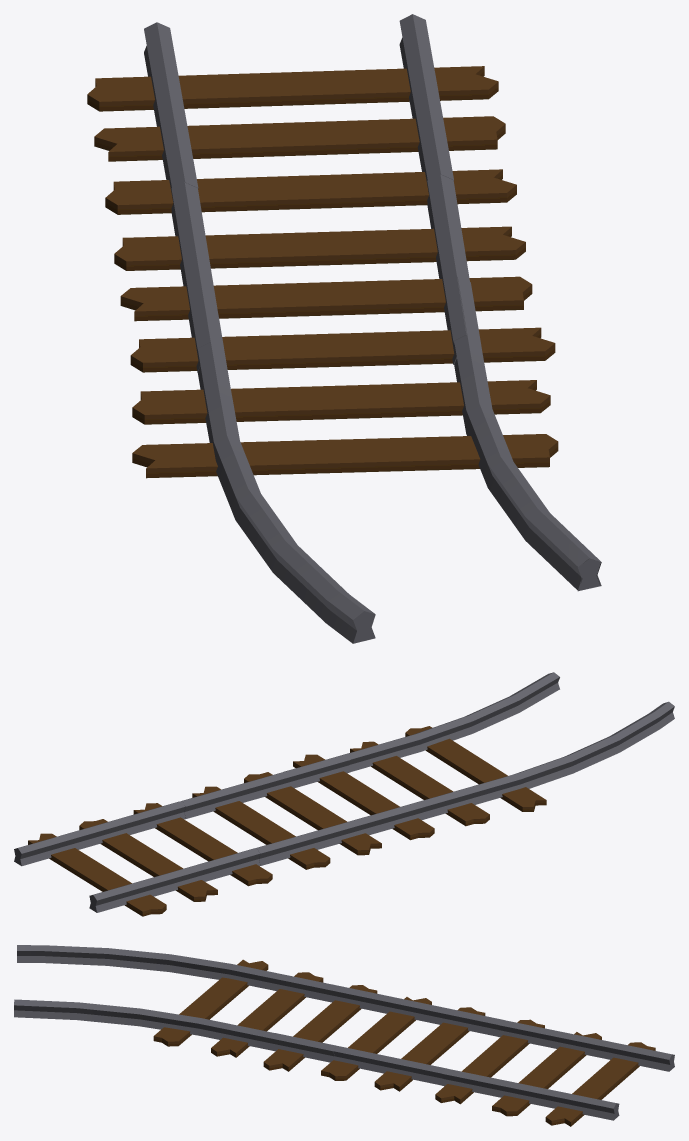
The model's file is SM_TrackMerge.fbx.
3 views of the same model, one above another, from view 1: azimuth 30°, elevation 25°; view 2: azimuth 150°, elevation 25°; view 3: azimuth 270°, elevation 25° (orthographic). The views are drawn at different scales.
Parts seen in each view (by area): view 1: SM_TrackMerge; view 2: SM_TrackMerge; view 3: SM_TrackMerge.
Part boxes in pixels (x1=…): SM_TrackMerge: x1=87, y1=14, x2=601, y2=643; SM_TrackMerge: x1=14, y1=672, x2=674, y2=916; SM_TrackMerge: x1=14, y1=945, x2=674, y2=1126.
Size of the model in its own units: 73.8 by 3.57 by 123.
